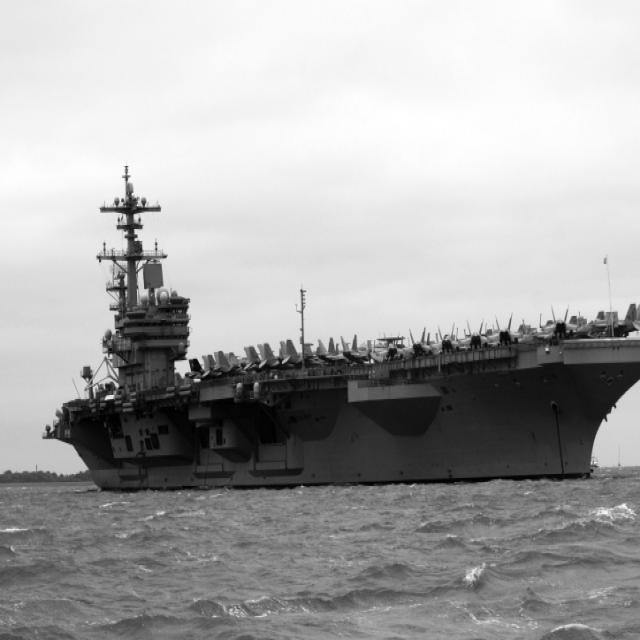Portanaves: (45, 158, 640, 483)
